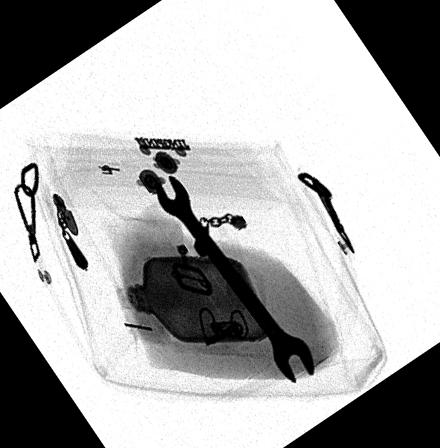Wrench: (151, 169, 315, 384)
